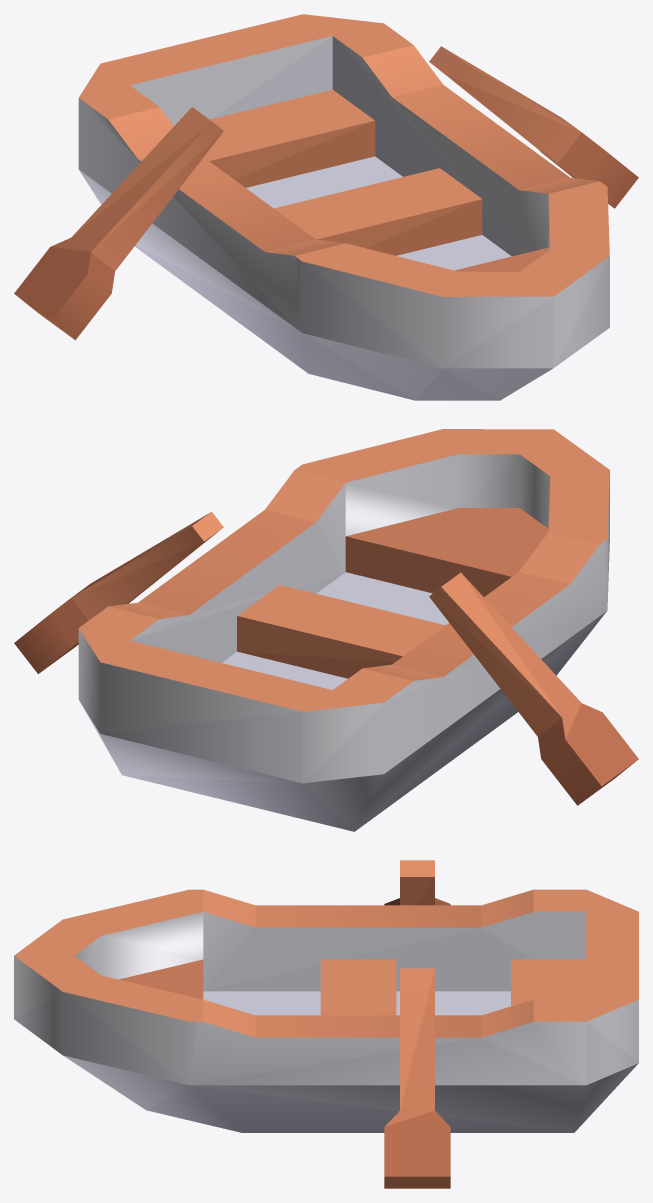
3 views of the same model, one above another, from view 1: azimuth 30°, elevation 25°; view 2: azimuth 150°, elevation 25°; view 3: azimuth 270°, elevation 25° (orthographic). The views are drawn at different scales.
Parts seen in each view (by area): view 1: boat-row-large, paddles; view 2: boat-row-large, paddles; view 3: boat-row-large, paddles.
Part boxes in pixels (box(x1,y1,x2,y2)): boat-row-large: box(78, 14, 609, 400); paddles: box(14, 46, 638, 340); boat-row-large: box(78, 429, 609, 831); paddles: box(14, 512, 638, 805); boat-row-large: box(14, 889, 638, 1132); paddles: box(384, 860, 450, 1188).
Bounding box in the file's own units: 3.86 × 1.19 × 4.
